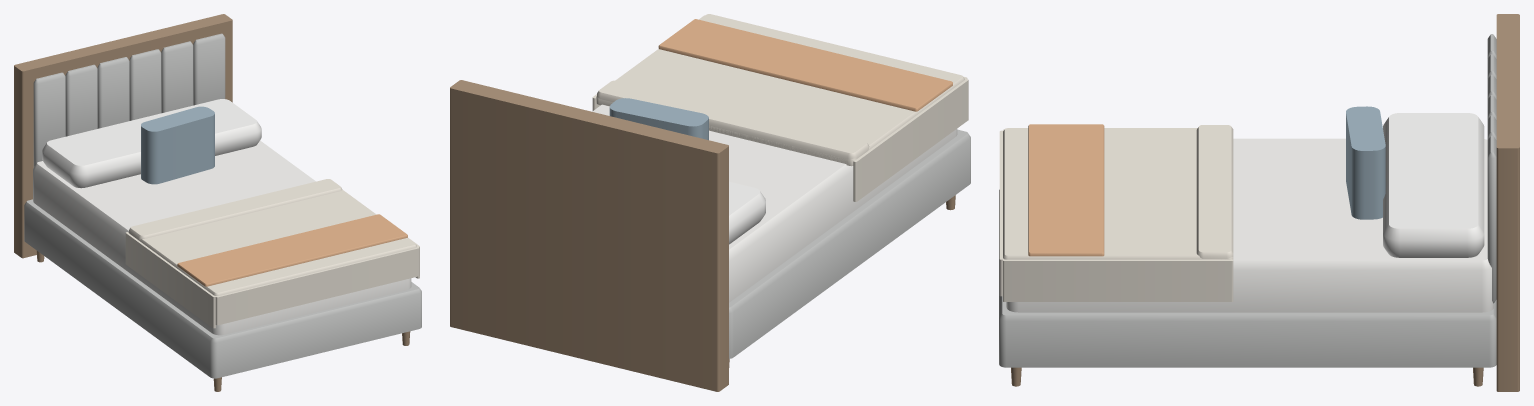
3 renders of one model, left to right at view 1: azimuth 30°, elevation 25°; view 2: azimuth 150°, elevation 25°; view 3: azimuth 270°, elevation 25°, orthographic. The views are drawn at different scales.
Parts seen in each view (by area): view 1: Giường ngủ Rộng nệm=1200; view 2: Giường ngủ Rộng nệm=1200; view 3: Giường ngủ Rộng nệm=1200.
Boxes of the visible parts, x1,y1,x2,y2 form: Giường ngủ Rộng nệm=1200: (14,14,421,391); Giường ngủ Rộng nệm=1200: (450,14,970,391); Giường ngủ Rộng nệm=1200: (999,14,1519,391).
Bounding box in the file's own units: 1.3 × 1.1 × 2.13.
